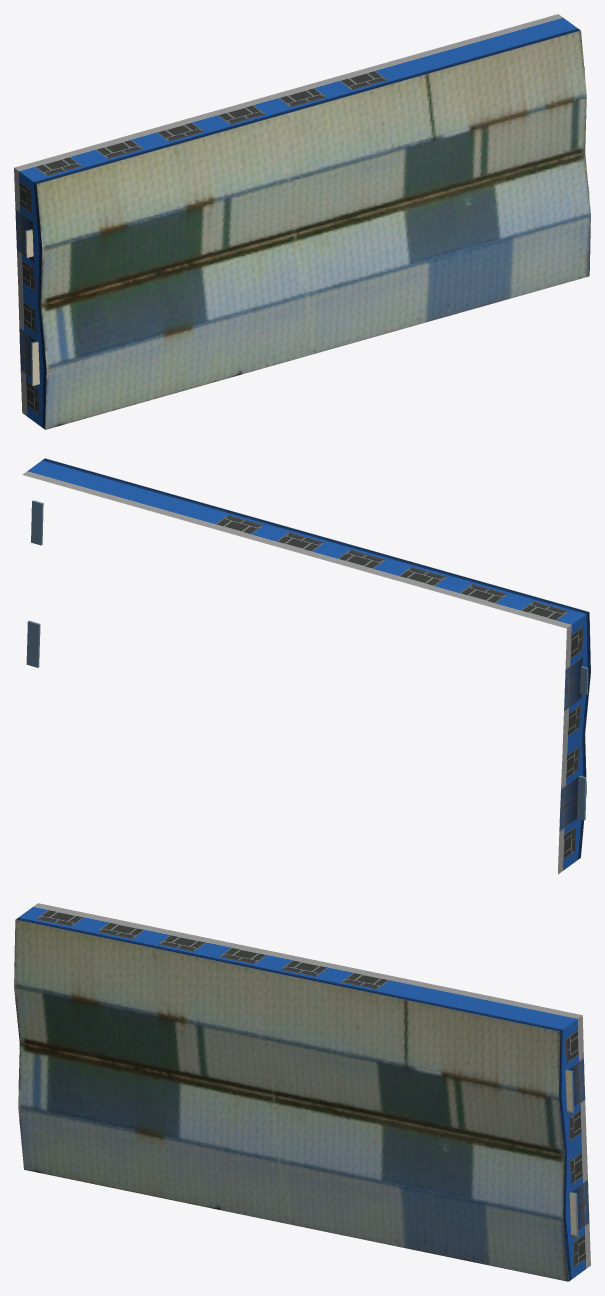
3 renders of one model, top to bottom at view 1: azimuth 30°, elevation 25°; view 2: azimuth 150°, elevation 25°; view 3: azimuth 330°, elevation 25°, orthographic.
Parts seen in each view (by area): view 1: Group_MatrixTransform_i96149_Geometry_7, Group_MatrixTransform_i96149_Geometry_4, Group_MatrixTransform_i96149_Geometry_0, Group_MatrixTransform_i96149_Geometry_1, Group_MatrixTransform_i96149_Geometry_2; view 2: Group_MatrixTransform_i96149_Geometry_4, Group_MatrixTransform_i96149_Geometry_0, Group_MatrixTransform_i96149_Geometry_1, Group_MatrixTransform_i96149_Geometry_2, Group_MatrixTransform_i96149_Geometry_3; view 3: Group_MatrixTransform_i96149_Geometry_7, Group_MatrixTransform_i96149_Geometry_4, Group_MatrixTransform_i96149_Geometry_0, Group_MatrixTransform_i96149_Geometry_2, Group_MatrixTransform_i96149_Geometry_1.
Boxes of the visible parts, bbox=[...] form: Group_MatrixTransform_i96149_Geometry_7: bbox=[36, 30, 590, 429]; Group_MatrixTransform_i96149_Geometry_4: bbox=[14, 64, 401, 184]; Group_MatrixTransform_i96149_Geometry_0: bbox=[380, 14, 580, 80]; Group_MatrixTransform_i96149_Geometry_1: bbox=[14, 168, 46, 367]; Group_MatrixTransform_i96149_Geometry_2: bbox=[16, 231, 46, 429]; Group_MatrixTransform_i96149_Geometry_4: bbox=[201, 509, 588, 628]; Group_MatrixTransform_i96149_Geometry_0: bbox=[22, 458, 223, 525]; Group_MatrixTransform_i96149_Geometry_1: bbox=[560, 612, 590, 810]; Group_MatrixTransform_i96149_Geometry_2: bbox=[558, 673, 590, 874]; Group_MatrixTransform_i96149_Geometry_3: bbox=[26, 500, 588, 820]; Group_MatrixTransform_i96149_Geometry_7: bbox=[14, 920, 568, 1281]; Group_MatrixTransform_i96149_Geometry_4: bbox=[15, 903, 403, 994]; Group_MatrixTransform_i96149_Geometry_0: bbox=[382, 978, 582, 1031]; Group_MatrixTransform_i96149_Geometry_2: bbox=[558, 1015, 588, 1218]; Group_MatrixTransform_i96149_Geometry_1: bbox=[558, 1080, 590, 1281].
Size of the model in its own units: 77.31 by 35.3 by 6.36.
Materials: 9 (9 with a texture image).
